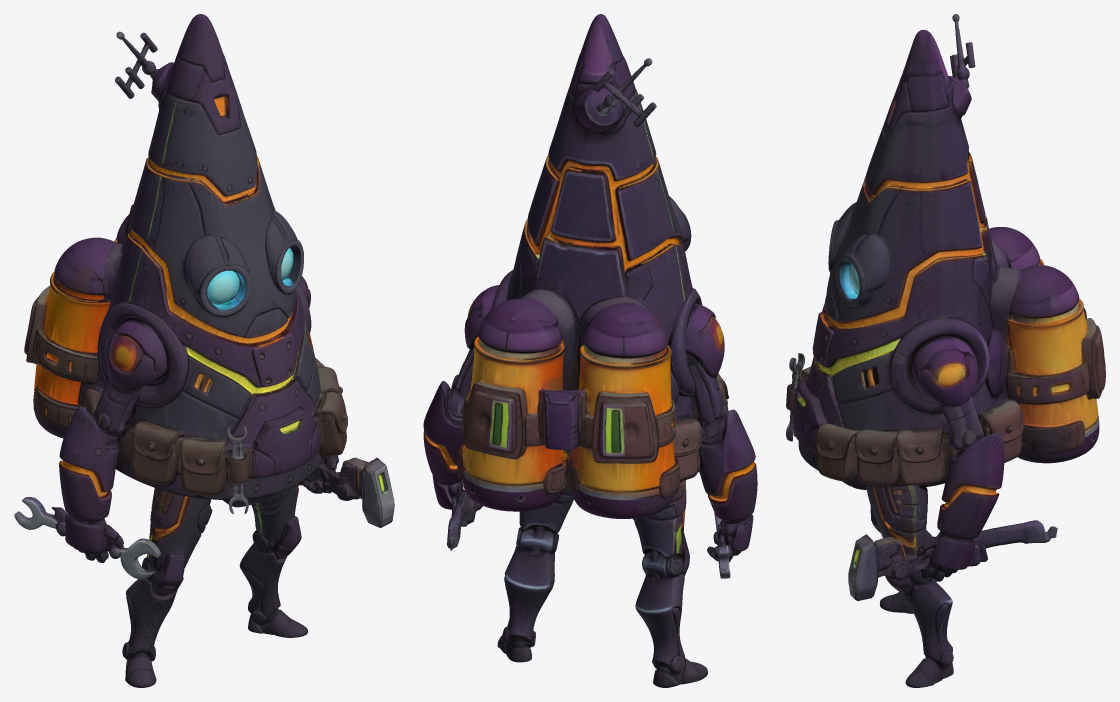
File: trailblazer.glb
The picture shows the model from 3 angles, left to right: view 1: azimuth 30°, elevation 25°; view 2: azimuth 150°, elevation 25°; view 3: azimuth 270°, elevation 25°; orthographic projection. The views are drawn at different scales.
Bounding box in the file's own units: 0.9833 × 1.9 × 0.902.
1 material, 1 textured.
